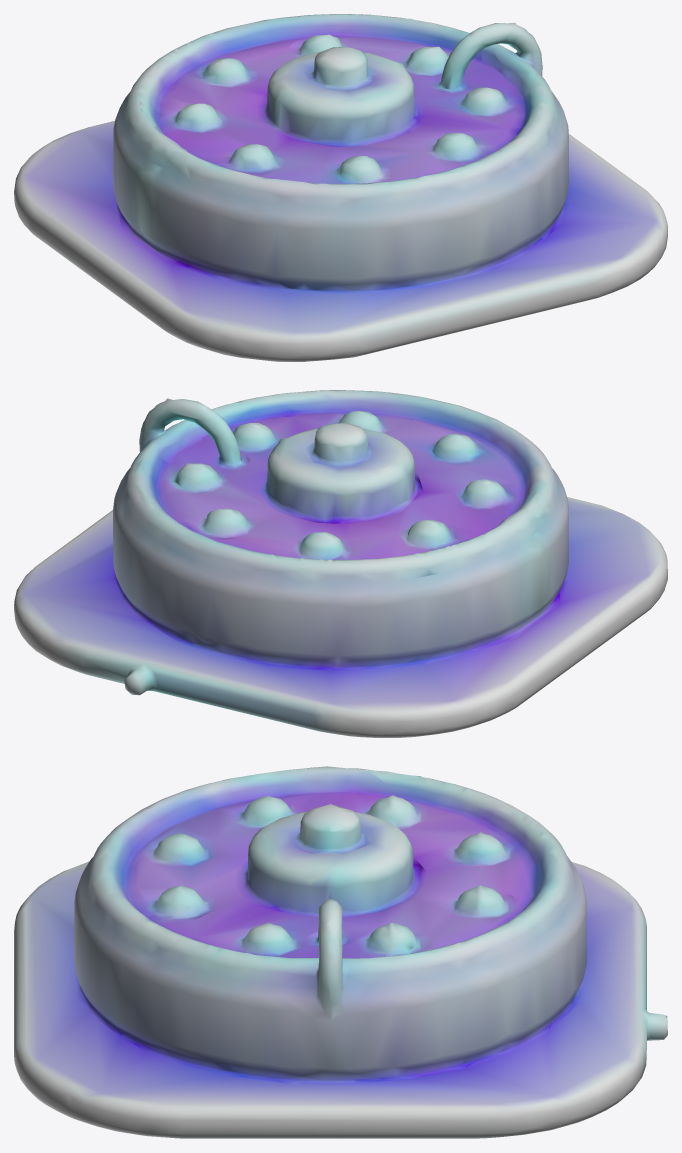
File: mine-lod1.glb
3 views of the same model, one above another, from view 1: azimuth 30°, elevation 25°; view 2: azimuth 150°, elevation 25°; view 3: azimuth 270°, elevation 25° (orthographic). The views are drawn at different scales.
Visible parts, largest first — view 1: mine-lod1; view 2: mine-lod1; view 3: mine-lod1.
Part boxes in pixels (left/top/right/bottom): mine-lod1: left=14, top=14, right=667, bottom=361; mine-lod1: left=14, top=390, right=667, bottom=737; mine-lod1: left=14, top=766, right=667, bottom=1138.
Size of the model in its own units: 0.4199 by 0.1438 by 0.4339.
